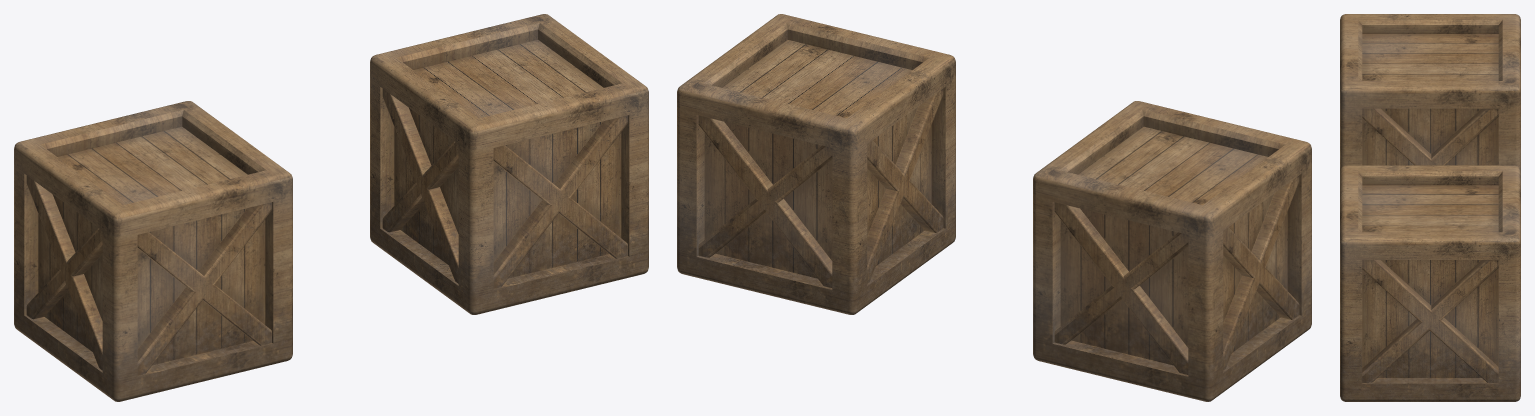
Rendered from Wooden Crate.gltf.
3 views of the same model, side by side, from view 1: azimuth 30°, elevation 25°; view 2: azimuth 150°, elevation 25°; view 3: azimuth 270°, elevation 25° (orthographic). The views are drawn at different scales.
Visible parts, largest first — view 1: Crate, Crate fbx; view 2: Crate, Crate fbx; view 3: Crate, Crate fbx.
Part boxes in pixels (bbox=[...]): Crate: bbox=[370, 14, 648, 314]; Crate fbx: bbox=[14, 101, 292, 401]; Crate: bbox=[677, 14, 955, 314]; Crate fbx: bbox=[1033, 101, 1311, 401]; Crate: bbox=[1340, 165, 1520, 401]; Crate fbx: bbox=[1340, 14, 1520, 170].
Bounding box in the file's own units: 14.9 × 5 × 5.
